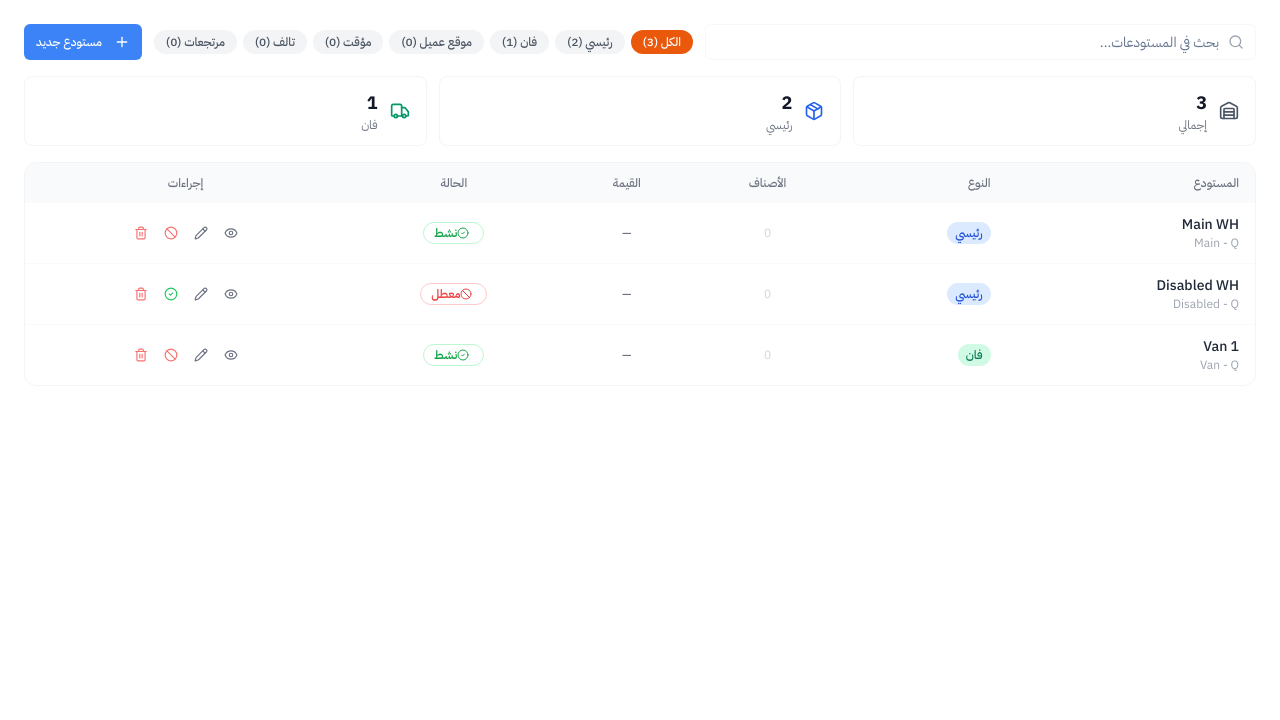
Test: Arabic translations (isRTL=true) › shows "حفظ" in edit dialog
Click the button titled "تعديل" in the row of "Main - Q": (200, 233) [188,220,214,246]
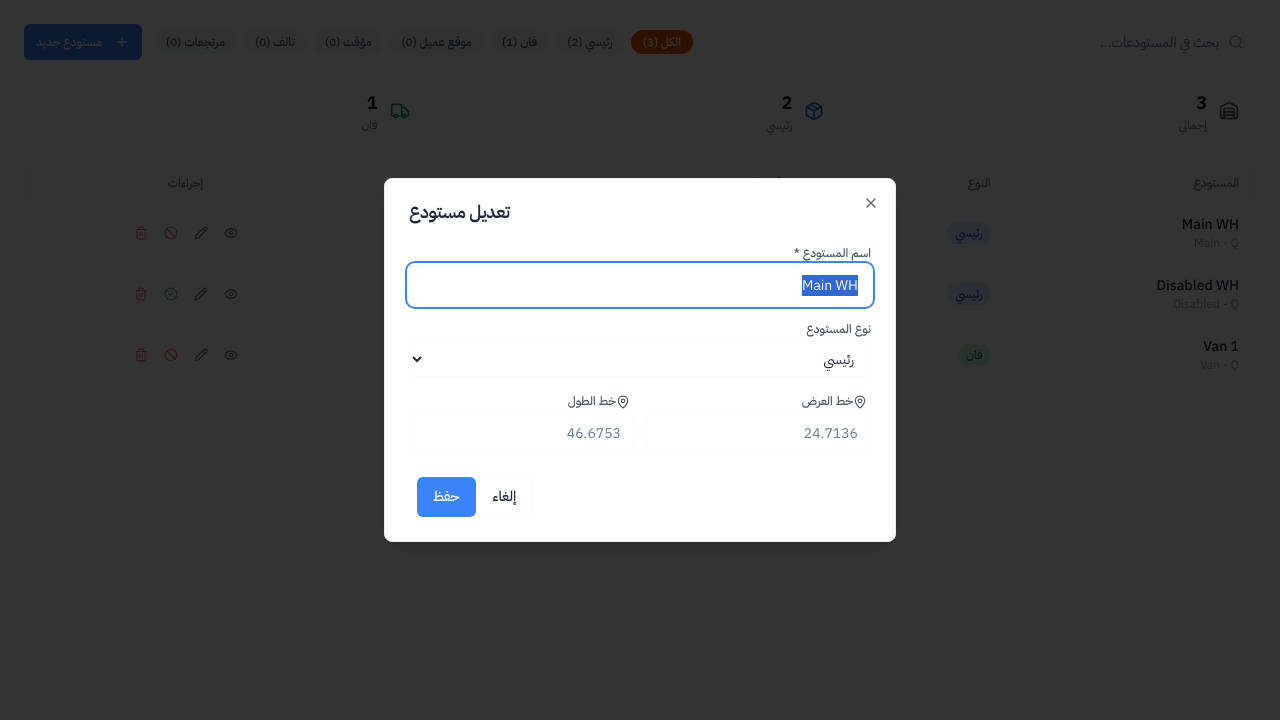
Check: the heading "تعديل مستودع" is shown, box [409,198,510,225]
Check: the button "حفظ" is shown, box [417,477,476,517]
